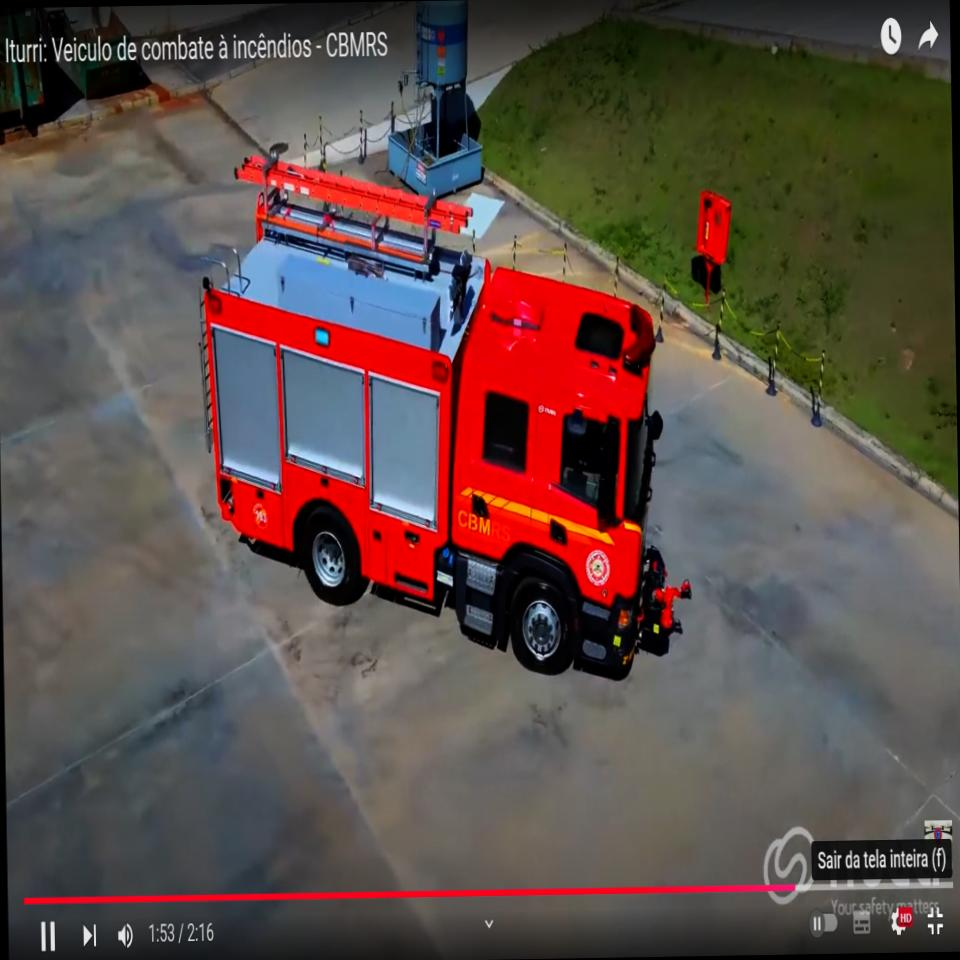viatura: (191, 133, 694, 684)
